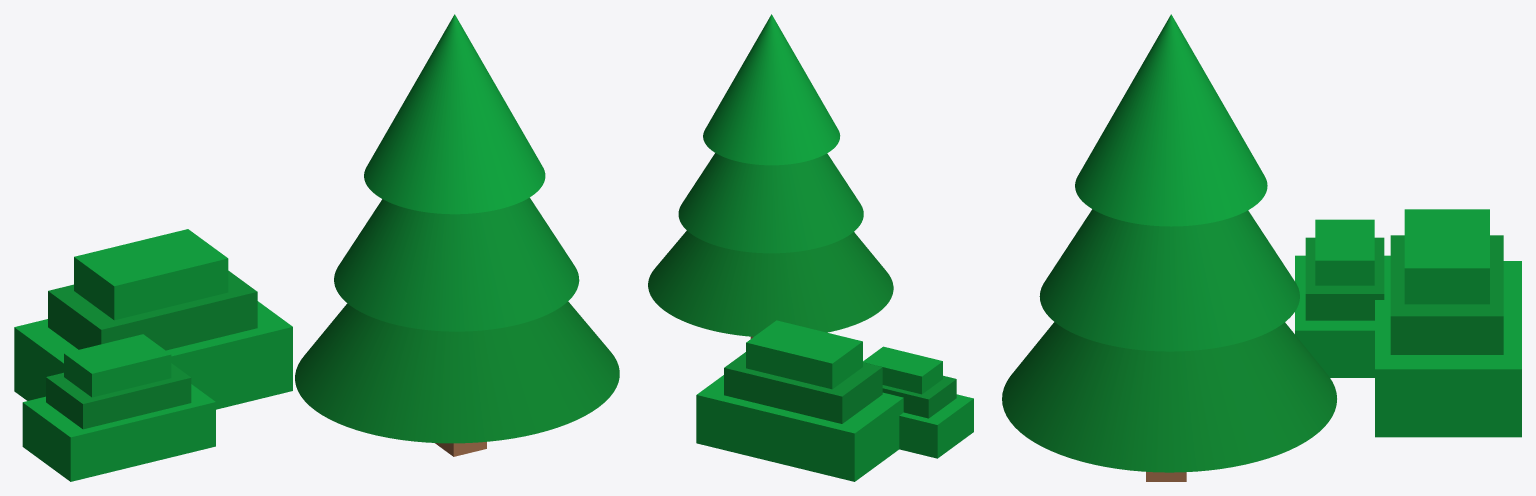
The model's file is Round_Tree_Bush.fbx.
3 views of the same model, side by side, from view 1: azimuth 30°, elevation 25°; view 2: azimuth 150°, elevation 25°; view 3: azimuth 270°, elevation 25° (orthographic). The views are drawn at different scales.
Visible parts, largest first — view 1: node_id270 (×3), node_id306 (×3), node_id310 (×3); view 2: node_id270 (×3), node_id306 (×3), node_id310 (×3); view 3: node_id270 (×3), node_id306 (×3), node_id310 (×3).
Boxes of the visible parts, left/top/right/bottom form: node_id270 (×3): left=295, top=14, right=619, bottom=443; node_id306 (×3): left=14, top=229, right=292, bottom=409; node_id310 (×3): left=22, top=334, right=215, bottom=481; node_id270 (×3): left=648, top=14, right=893, bottom=336; node_id306 (×3): left=696, top=320, right=903, bottom=481; node_id310 (×3): left=863, top=346, right=973, bottom=458; node_id270 (×3): left=1002, top=14, right=1336, bottom=472; node_id306 (×3): left=1375, top=209, right=1521, bottom=437; node_id310 (×3): left=1295, top=219, right=1390, bottom=377.
Size of the model in its own units: 0.5132 by 0.4501 by 0.4637.
10 materials, 10 textured.
